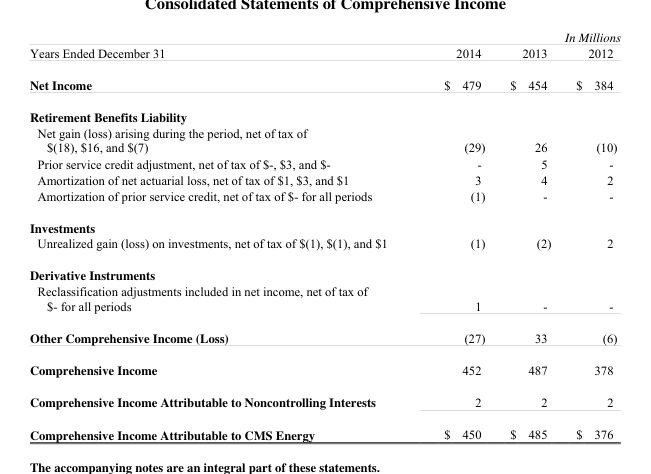table: (28, 28, 619, 442)
table column: (28, 28, 415, 442), (415, 28, 496, 442), (557, 28, 619, 442), (496, 28, 557, 442)
table column header: (28, 28, 619, 67)
table projected row header: (28, 210, 619, 236), (28, 257, 619, 283), (28, 100, 619, 125)
table row: (28, 28, 619, 67), (28, 283, 619, 320), (28, 67, 619, 100), (28, 320, 619, 353), (28, 353, 619, 385), (28, 385, 619, 417), (28, 125, 619, 155), (28, 210, 619, 236), (28, 257, 619, 283), (28, 100, 619, 125), (28, 417, 619, 442), (28, 187, 619, 210), (28, 236, 619, 257), (28, 155, 619, 171), (28, 171, 619, 187)
